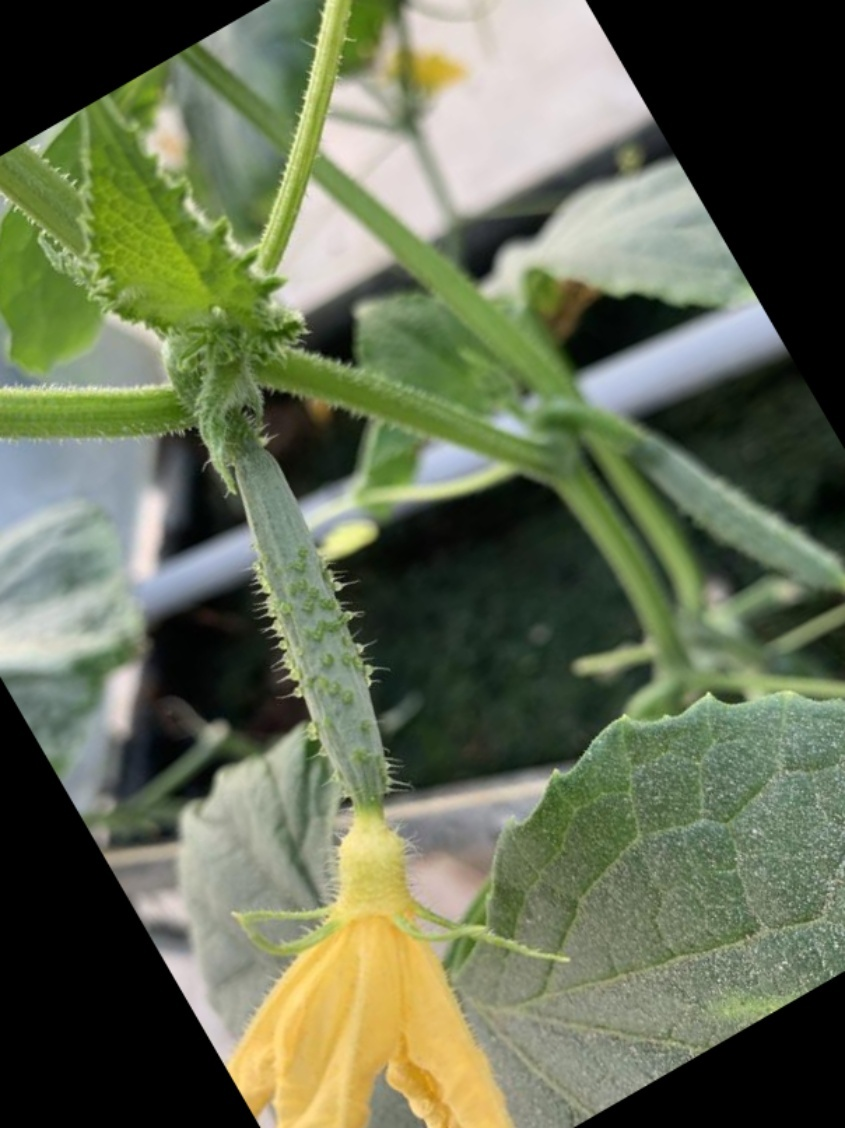bear: (217, 426, 505, 1107)
flowering: (215, 433, 484, 1090)
